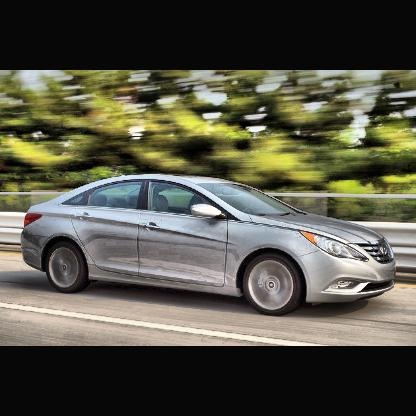Hyundai Sonata Sedan 2012: (22, 175, 397, 318)
